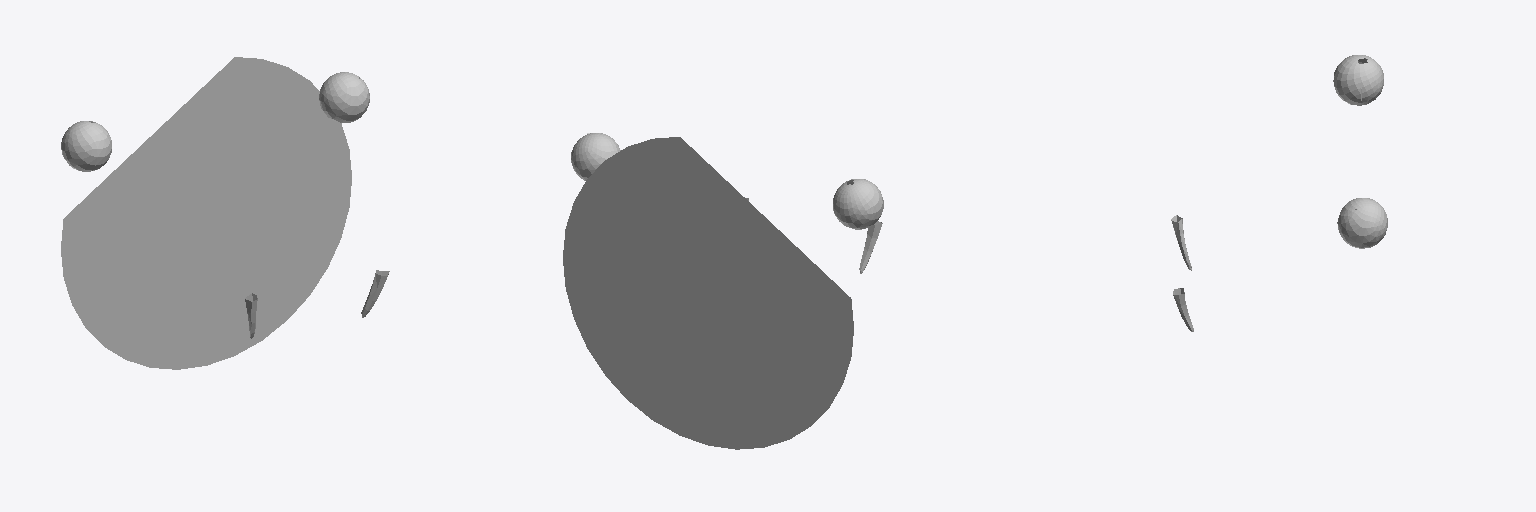
File: teeth_eyes_inside.obj
The picture shows the model from 3 angles: view 1: azimuth 30°, elevation 25°; view 2: azimuth 150°, elevation 25°; view 3: azimuth 270°, elevation 25°; orthographic projection.
Parts seen in each view (by area): view 1: head2.002; view 2: head2.002; view 3: head2.002.
Boxes of the visible parts, box(x1,y1,x2,y2) form: head2.002: box(61, 57, 389, 369); head2.002: box(563, 133, 883, 449); head2.002: box(1171, 55, 1387, 331).
Bounding box in the file's own units: 2.09 × 1.98 × 1.3.